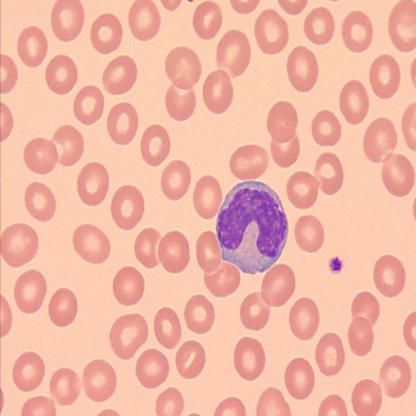Monocyte: (213, 178, 289, 275)
